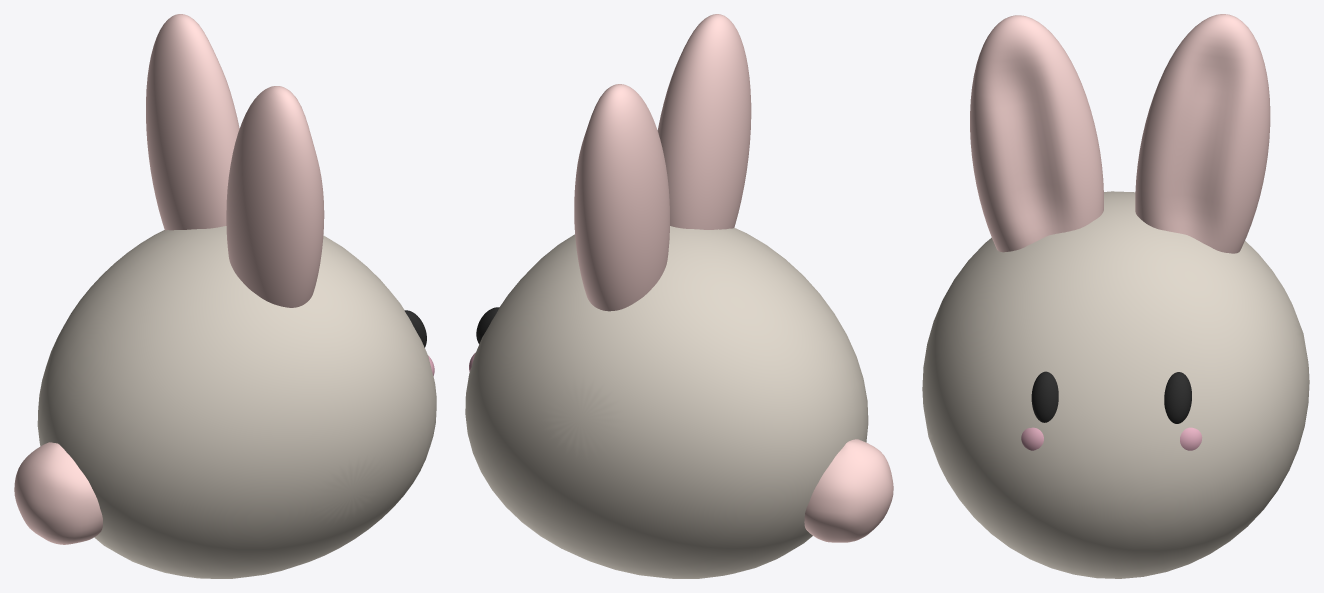
Rendered from bunny.fbx.
3 views of the same model, side by side, from view 1: azimuth 30°, elevation 25°; view 2: azimuth 150°, elevation 25°; view 3: azimuth 270°, elevation 25° (orthographic). The views are drawn at different scales.
Visible parts, largest first — view 1: bunny body, left ear, right ear, bunny tail; view 2: bunny body, right ear, left ear, bunny tail; view 3: bunny body, right ear, left ear, right eye, left eye.
Boxes of the visible parts, left/top/right/bottom form: bunny body: left=37, top=226, right=436, bottom=578; left ear: left=226, top=86, right=324, bottom=307; right ear: left=146, top=14, right=239, bottom=230; bunny tail: left=14, top=442, right=102, bottom=544; bunny body: left=465, top=226, right=868, bottom=578; right ear: left=574, top=84, right=669, bottom=311; left ear: left=657, top=14, right=751, bottom=229; bunny tail: left=804, top=439, right=893, bottom=542; bunny body: left=922, top=191, right=1309, bottom=578; right ear: left=1135, top=14, right=1270, bottom=253; left ear: left=970, top=15, right=1103, bottom=252; right eye: left=1164, top=372, right=1191, bottom=423; left eye: left=1031, top=371, right=1058, bottom=422.
Size of the model in its own units: 108 by 135 by 88.19.
